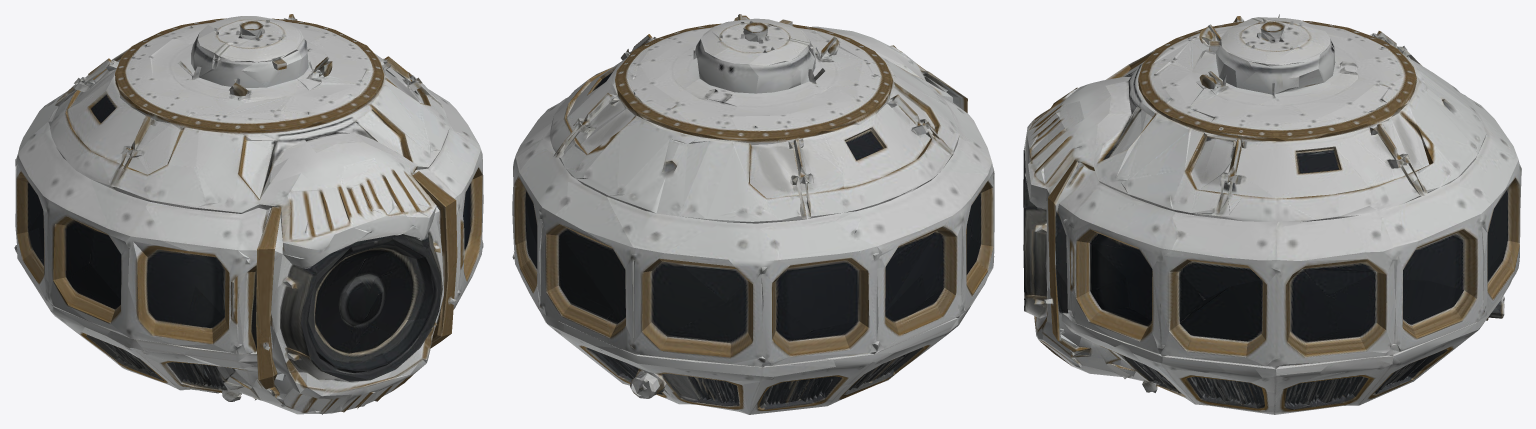
File: web.glb
3 views of the same model, side by side, from view 1: azimuth 30°, elevation 25°; view 2: azimuth 150°, elevation 25°; view 3: azimuth 270°, elevation 25° (orthographic). The views are drawn at different scales.
Visible parts, largest first — view 1: output_unwrapped; view 2: output_unwrapped; view 3: output_unwrapped.
Part boxes in pixels (x1,y1,x2,y2): output_unwrapped: (14,14,483,414); output_unwrapped: (512,14,994,414); output_unwrapped: (1023,14,1521,414).
Size of the model in its own units: 1.84 by 1.5 by 1.89.
1 material, 1 textured.
